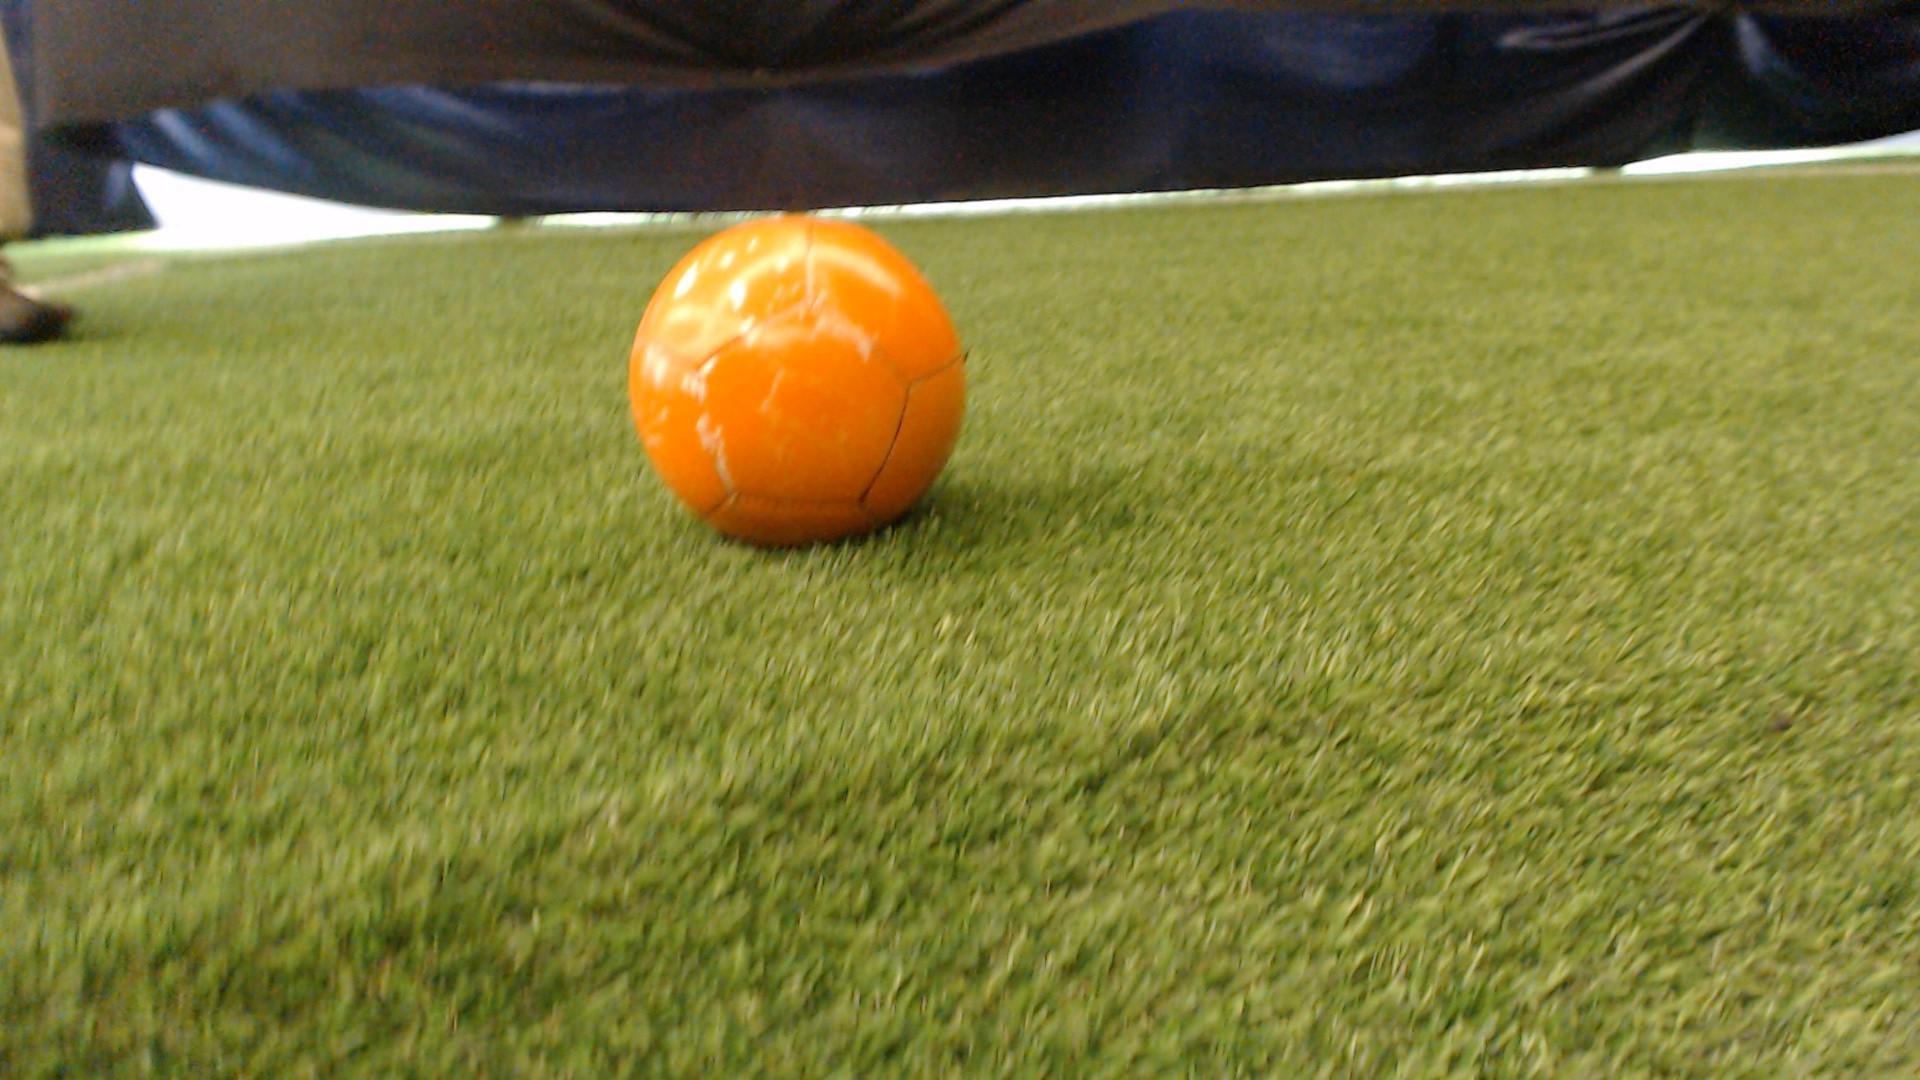bola: (595, 189, 1002, 575)
